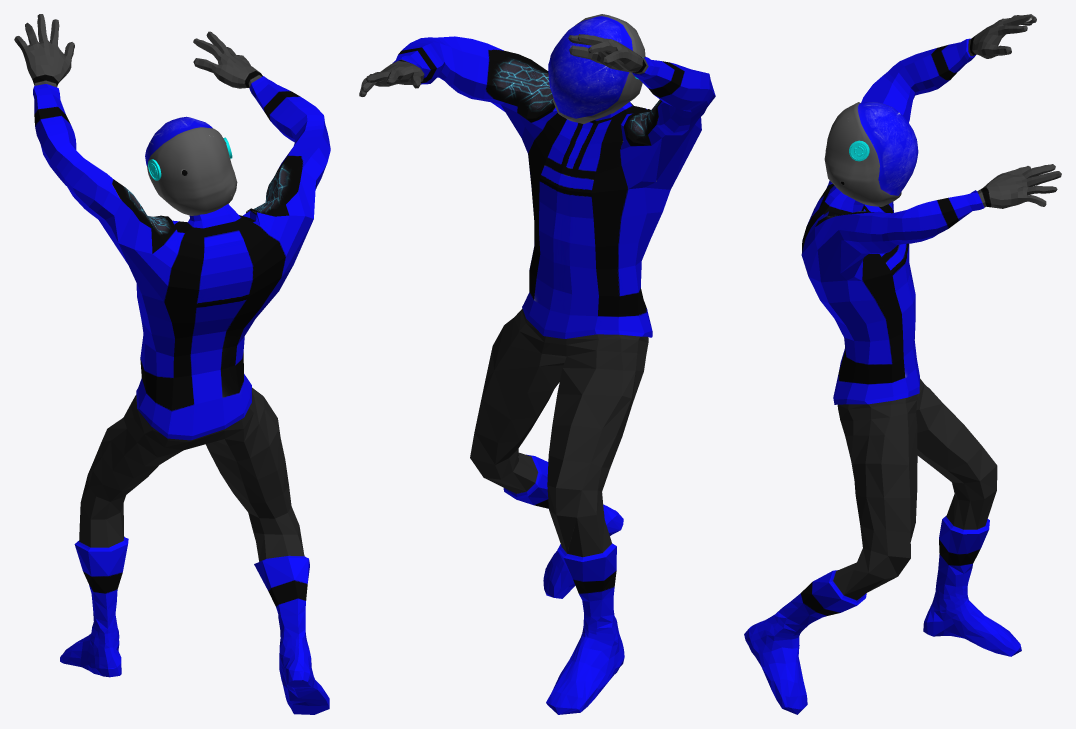
The picture shows the model from 3 angles, left to right: view 1: azimuth 30°, elevation 25°; view 2: azimuth 150°, elevation 25°; view 3: azimuth 270°, elevation 25°; orthographic projection. The views are drawn at different scales.
Parts seen in each view (by area): view 1: Brazos2, Piernas1, Cabeza1; view 2: Brazos2, Piernas1, Cabeza1; view 3: Piernas1, Brazos2, Cabeza1.
Part boxes in pixels (x1,y1,x2,y2): Brazos2: (14,14,330,440); Piernas1: (60,387,329,714); Cabeza1: (145,116,237,215); Brazos2: (359,34,715,338); Piernas1: (470,308,648,714); Cabeza1: (548,14,645,123); Piernas1: (744,378,1021,714); Brazos2: (801,14,1061,404); Cabeza1: (824,102,918,206).
Size of the model in its own units: 82.84 by 188 by 86.01.
